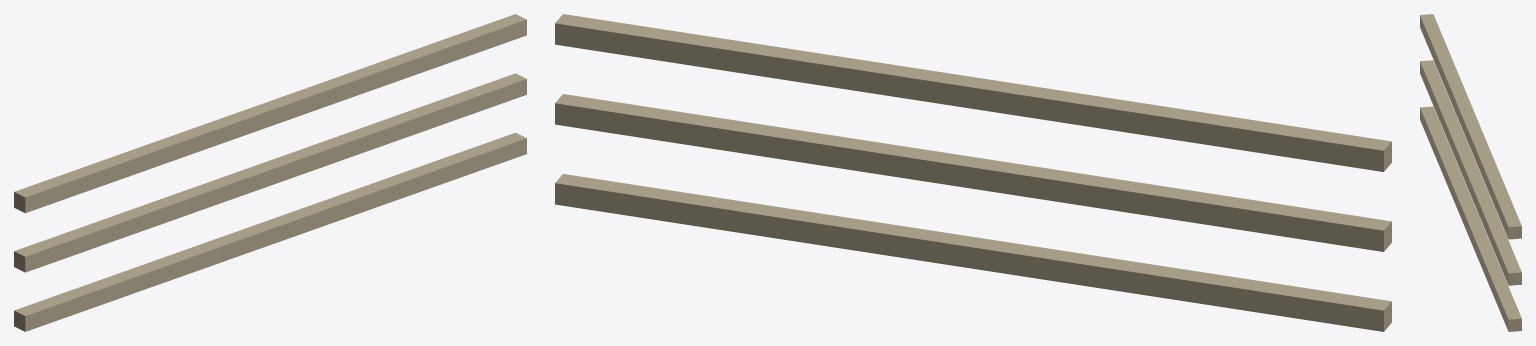
File: env-ww-fence.glb
3 renders of one model, left to right at view 1: azimuth 30°, elevation 25°; view 2: azimuth 150°, elevation 25°; view 3: azimuth 270°, elevation 25°, orthographic. The views are drawn at different scales.
Bounding box in the file's own units: 2.97 × 0.68 × 0.5997.
